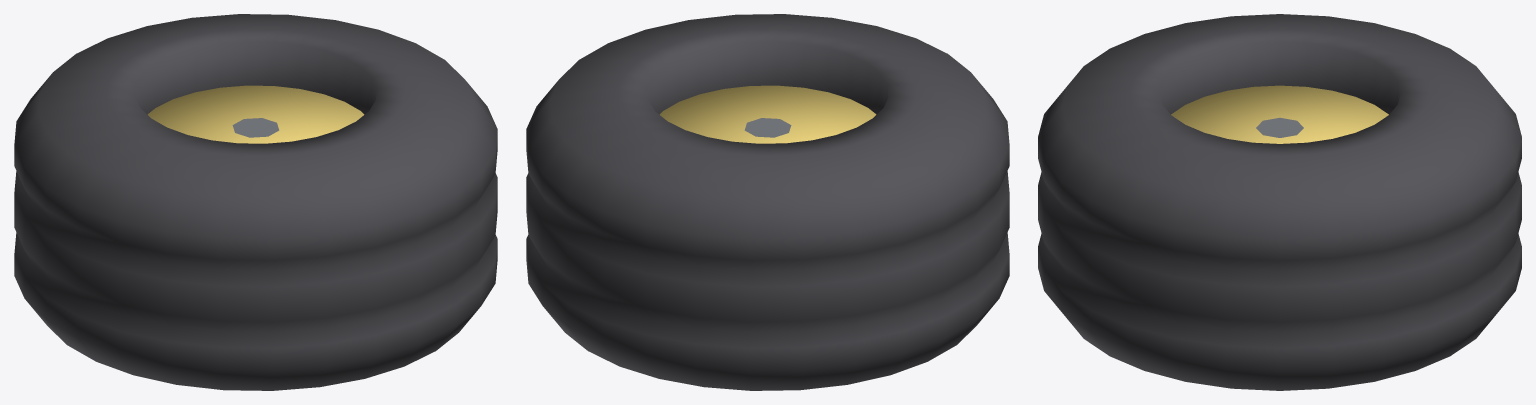
Rendered from tyre.glb.
The picture shows the model from 3 angles, left to right: view 1: azimuth 30°, elevation 25°; view 2: azimuth 150°, elevation 25°; view 3: azimuth 270°, elevation 25°; orthographic projection.
Parts seen in each view (by area): view 1: tyre; view 2: tyre; view 3: tyre.
Boxes of the visible parts, x1,y1,x2,y2 form: tyre: (14, 14, 497, 390); tyre: (526, 14, 1009, 390); tyre: (1038, 14, 1521, 390).
Size of the model in its own units: 2 by 1 by 2.
